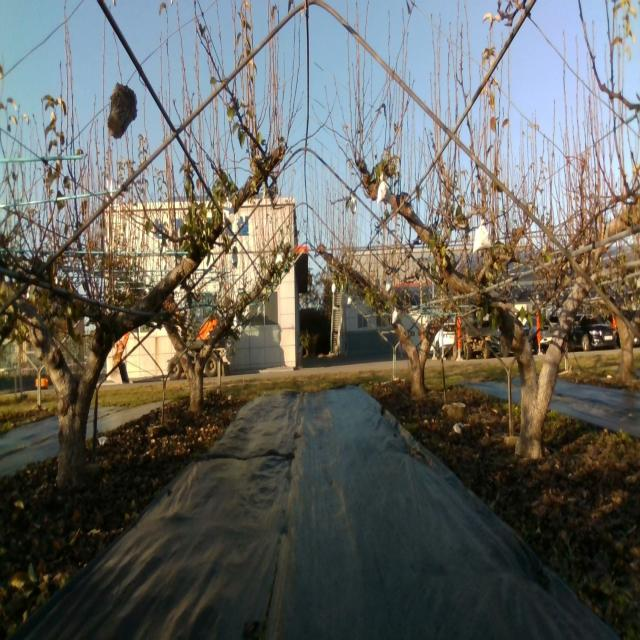pearbags: (473, 218, 492, 254), (377, 176, 391, 205), (222, 197, 235, 228)
